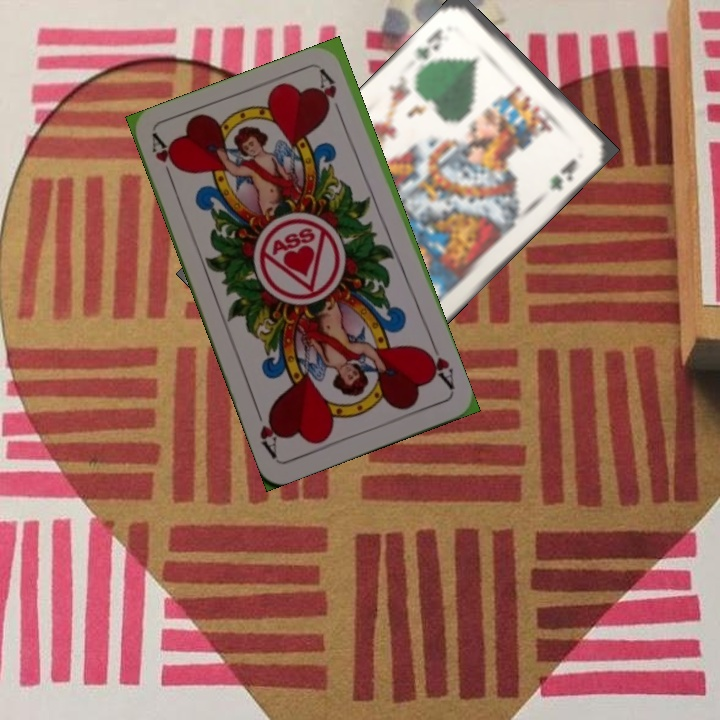GK: (411, 24, 445, 63)
HA: (418, 337, 457, 393), (147, 131, 182, 189)
